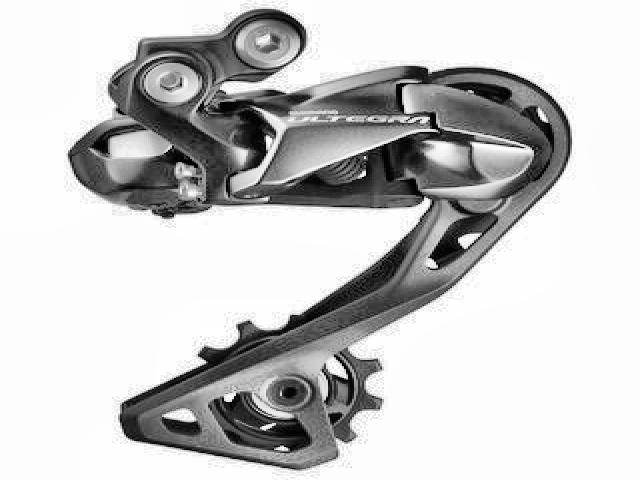rear_derailleur: (66, 8, 576, 468)
